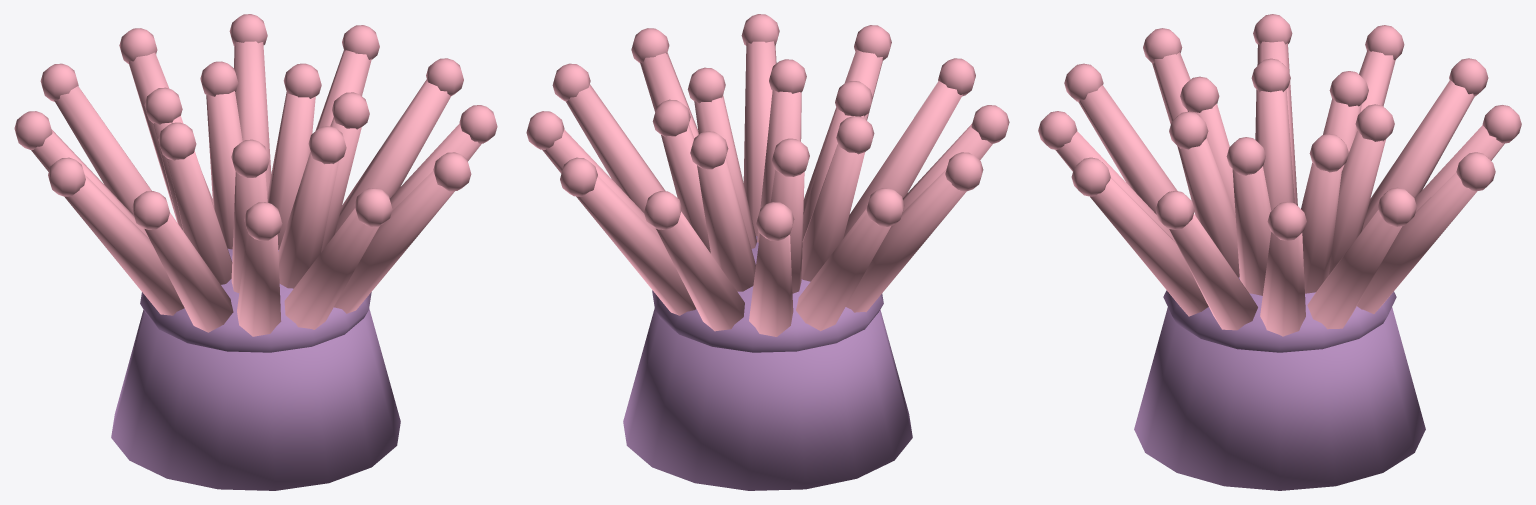
Rendered from anemone.glb.
3 renders of one model, left to right at view 1: azimuth 30°, elevation 25°; view 2: azimuth 150°, elevation 25°; view 3: azimuth 270°, elevation 25°, orthographic.
Visible parts, largest first — view 1: anemone; view 2: anemone; view 3: anemone.
Part boxes in pixels (x1,y1,x2,y2): anemone: (14, 14, 497, 490); anemone: (526, 14, 1009, 490); anemone: (1038, 14, 1521, 490).
Size of the model in its own units: 0.6631 by 0.4969 by 0.6631.
